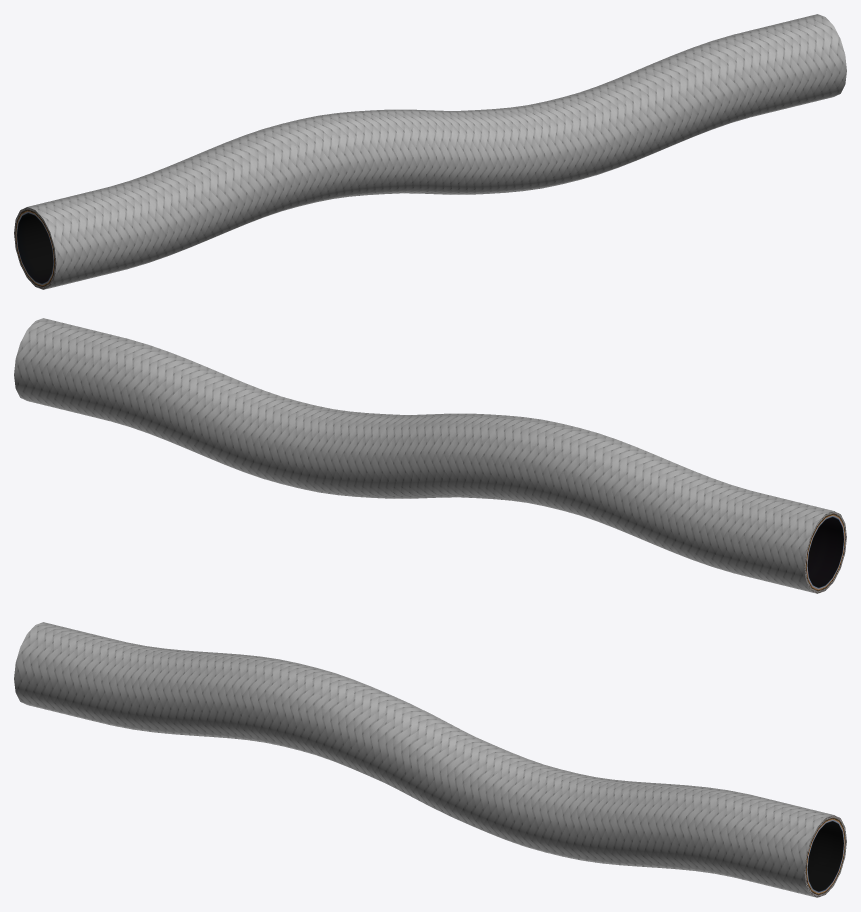
3 views of the same model, one above another, from view 1: azimuth 30°, elevation 25°; view 2: azimuth 150°, elevation 25°; view 3: azimuth 330°, elevation 25° (orthographic).
Parts seen in each view (by area): view 1: Stainless_Steel_Braid-24.001; view 2: Stainless_Steel_Braid-24.001; view 3: Stainless_Steel_Braid-24.001.
Part boxes in pixels (x1,y1,x2,y2): Stainless_Steel_Braid-24.001: [14, 14, 846, 289]; Stainless_Steel_Braid-24.001: [14, 318, 846, 593]; Stainless_Steel_Braid-24.001: [14, 622, 846, 897].
Size of the model in its own units: 0.5 by 0.0719 by 0.0465.
2 materials, 2 textured.
